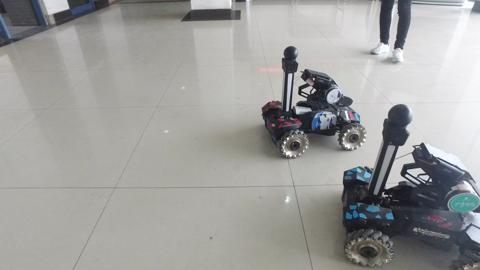chariot: (341, 101, 480, 270), (255, 43, 370, 162)
